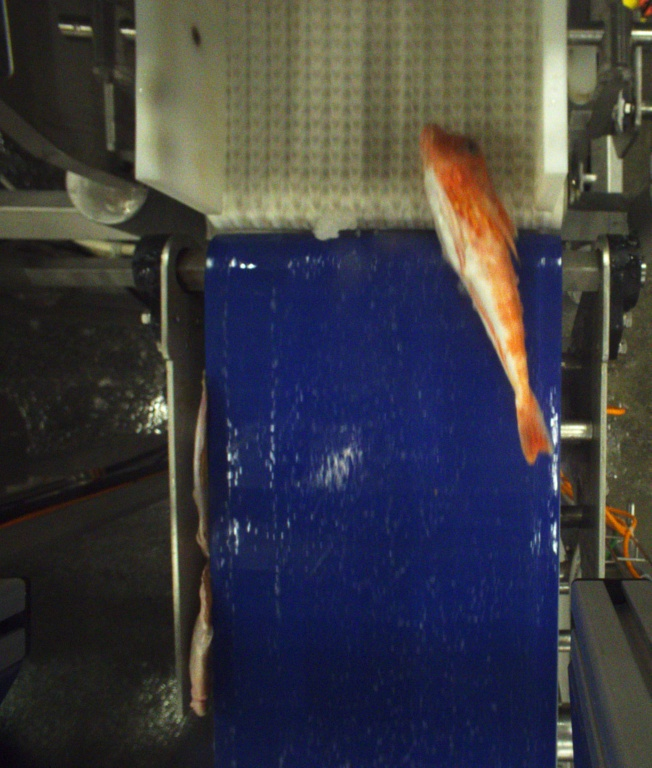GUU: (421, 124, 554, 465)
